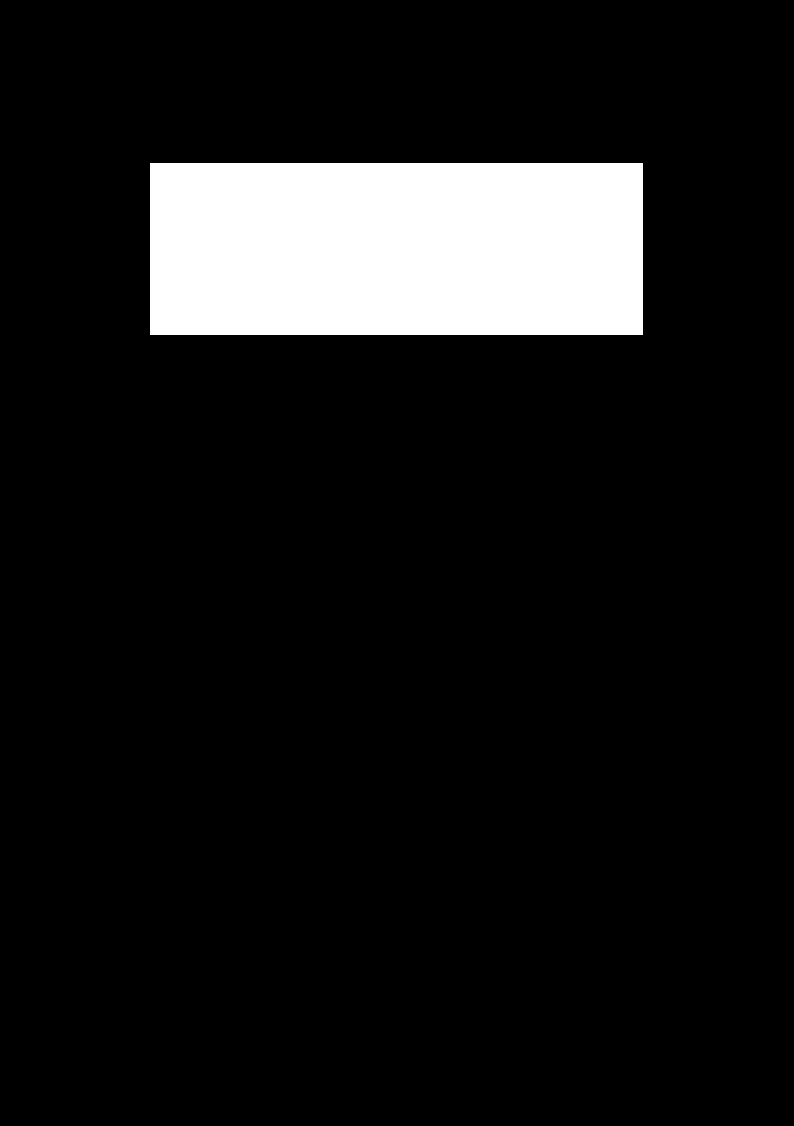table: (150, 163, 642, 334)
